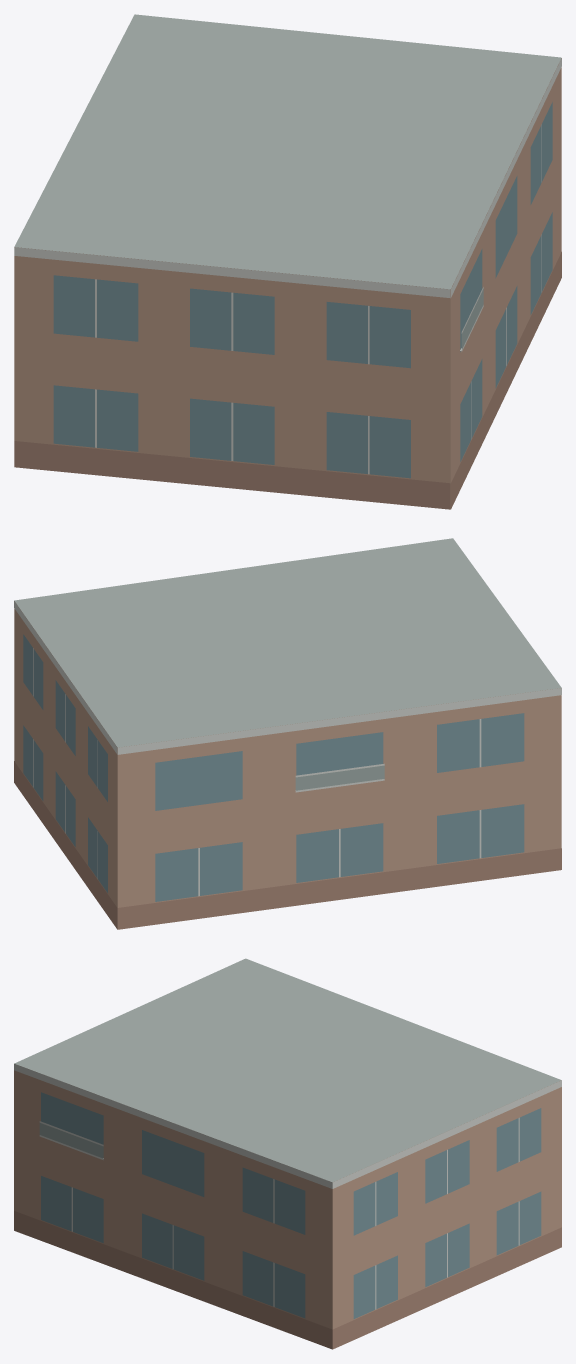
Rendered from survey-upis-32769635.glb.
3 renders of one model, top to bottom at view 1: azimuth 30°, elevation 25°; view 2: azimuth 150°, elevation 25°; view 3: azimuth 270°, elevation 25°, orthographic. The views are drawn at different scales.
Parts seen in each view (by area): view 1: survey-upis-32769635.tmp; view 2: survey-upis-32769635.tmp; view 3: survey-upis-32769635.tmp.
Boxes of the visible parts, x1,y1,x2,y2 form: survey-upis-32769635.tmp: (14, 14, 561, 509); survey-upis-32769635.tmp: (14, 538, 561, 929); survey-upis-32769635.tmp: (14, 958, 561, 1349).
Size of the model in its own units: 17.55 by 6.1 by 18.13.
